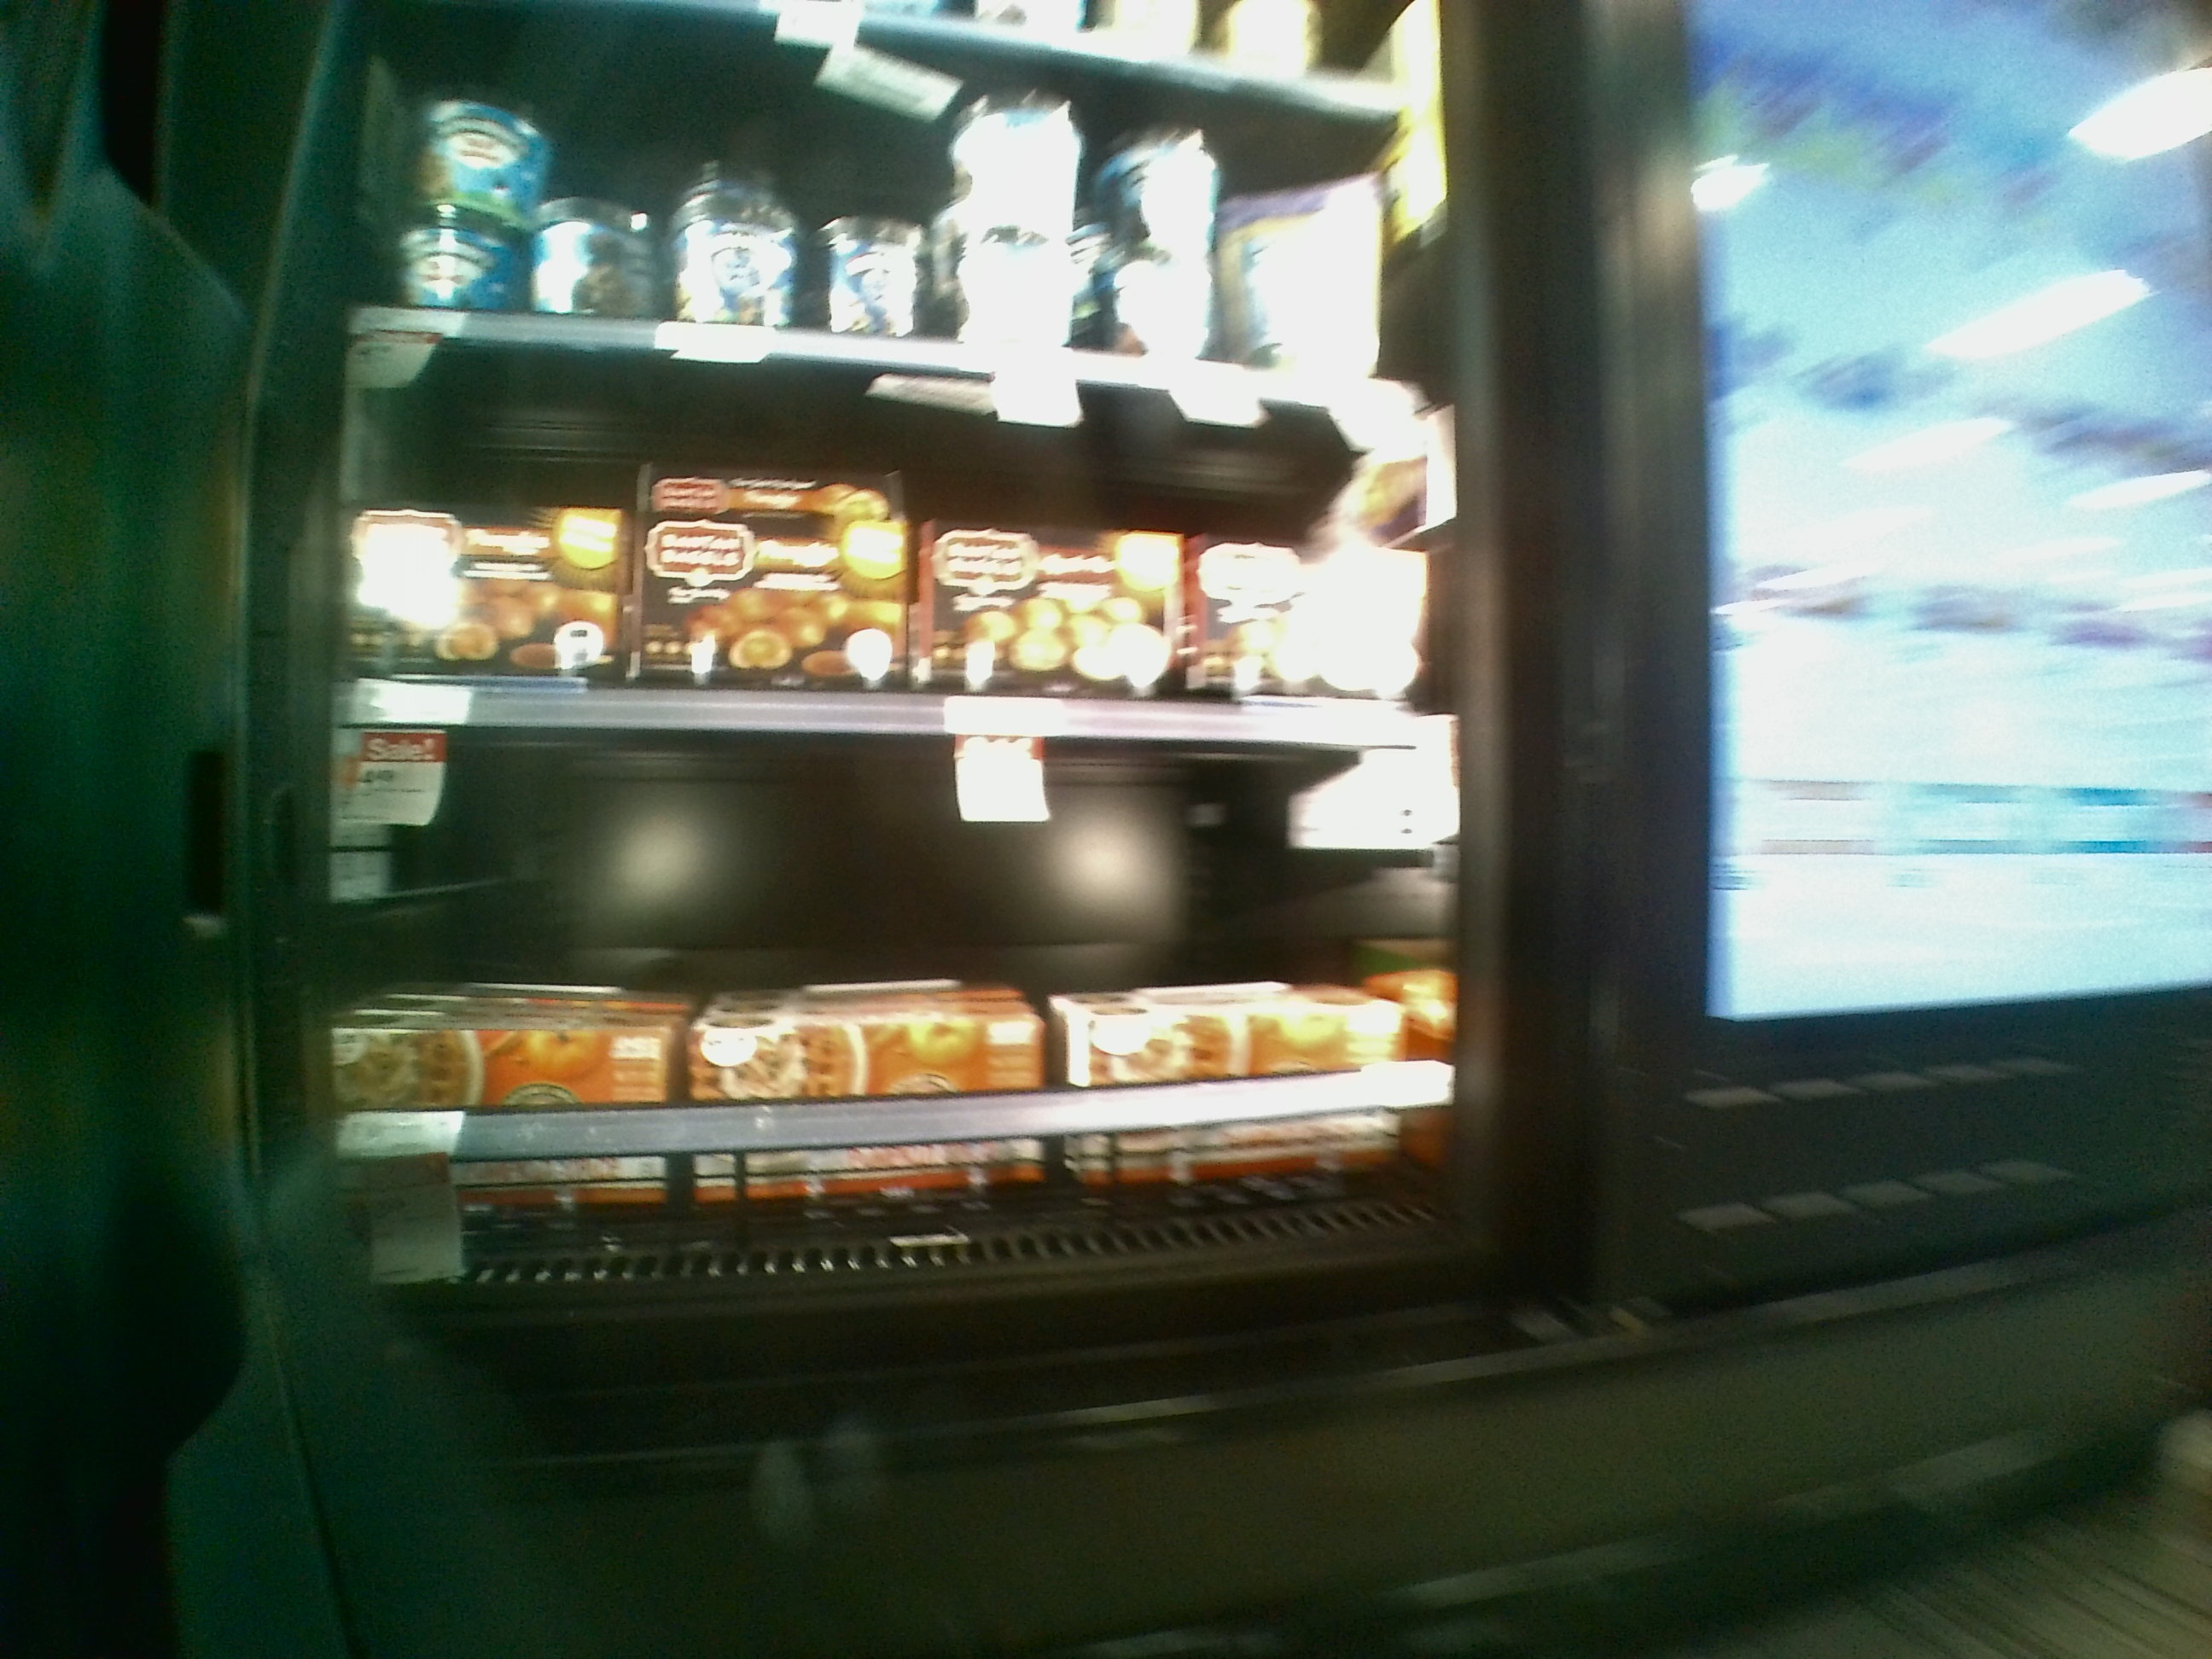shelf: (312, 704, 1475, 1290), (347, 314, 1439, 763)
